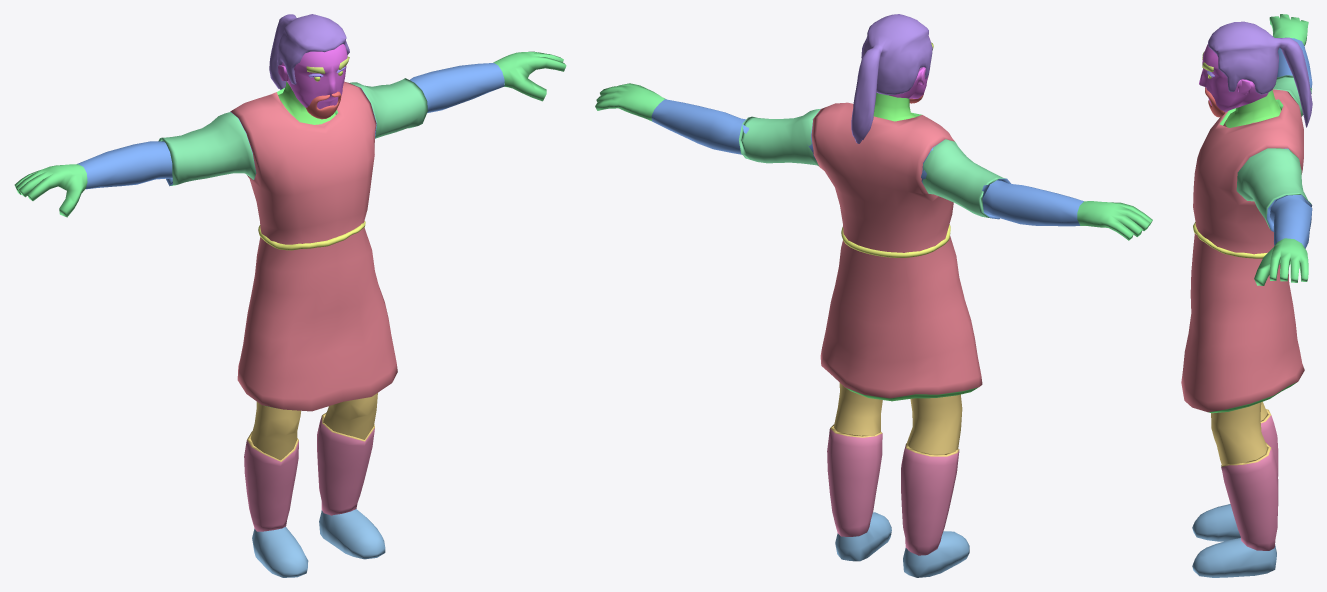
Rendered from Thorfinn.fbx.
3 views of the same model, side by side, from view 1: azimuth 30°, elevation 25°; view 2: azimuth 150°, elevation 25°; view 3: azimuth 270°, elevation 25° (orthographic). The views are drawn at different scales.
Visible parts, largest first — view 1: Extract7, Extract26, Extract20, Body_Arms, Body_Feet, Body_Hands, Body_Legs, Hair7, Body_Head, Body_Neck; view 2: Extract7, Extract26, Extract20, Body_Arms, Hair7, Body_Legs, Body_Hands, Body_Feet, Body_Neck; view 3: Extract7, Hair7, Extract26, Body_Feet, Extract20, Body_Legs, Body_Hands, Body_Arms, Body_Head, Body_Neck, Moustache4.
Boxes of the visible parts, x1=… form: Extract7: x1=230, y1=81, x2=397, y2=411; Extract26: x1=244, y1=412, x2=374, y2=531; Extract20: x1=158, y1=78, x2=427, y2=186; Body_Arms: x1=77, y1=63, x2=504, y2=189; Body_Feet: x1=252, y1=509, x2=385, y2=577; Body_Hands: x1=14, y1=51, x2=566, y2=217; Body_Legs: x1=250, y1=393, x2=377, y2=460; Hair7: x1=269, y1=14, x2=349, y2=89; Body_Head: x1=278, y1=44, x2=347, y2=109; Body_Neck: x1=278, y1=81, x2=335, y2=124; Extract7: x1=811, y1=102, x2=982, y2=401; Extract26: x1=827, y1=424, x2=959, y2=555; Extract20: x1=739, y1=109, x2=1011, y2=219; Body_Arms: x1=651, y1=99, x2=1083, y2=226; Hair7: x1=851, y1=14, x2=932, y2=143; Body_Legs: x1=833, y1=383, x2=962, y2=454; Body_Hands: x1=595, y1=83, x2=1152, y2=240; Body_Feet: x1=835, y1=512, x2=969, y2=577; Body_Neck: x1=873, y1=92, x2=916, y2=121; Extract7: x1=1181, y1=89, x2=1304, y2=413; Hair7: x1=1208, y1=21, x2=1312, y2=127; Extract26: x1=1221, y1=409, x2=1278, y2=550; Body_Feet: x1=1192, y1=504, x2=1276, y2=577; Extract20: x1=1236, y1=75, x2=1312, y2=231; Body_Legs: x1=1211, y1=401, x2=1267, y2=465; Body_Hands: x1=1254, y1=14, x2=1308, y2=285; Body_Arms: x1=1270, y1=38, x2=1312, y2=248; Body_Head: x1=1199, y1=44, x2=1268, y2=112; Body_Neck: x1=1225, y1=90, x2=1281, y2=127; Moustache4: x1=1205, y1=87, x2=1224, y2=117.
Size of the model in its own units: 201 by 188 by 42.64.
